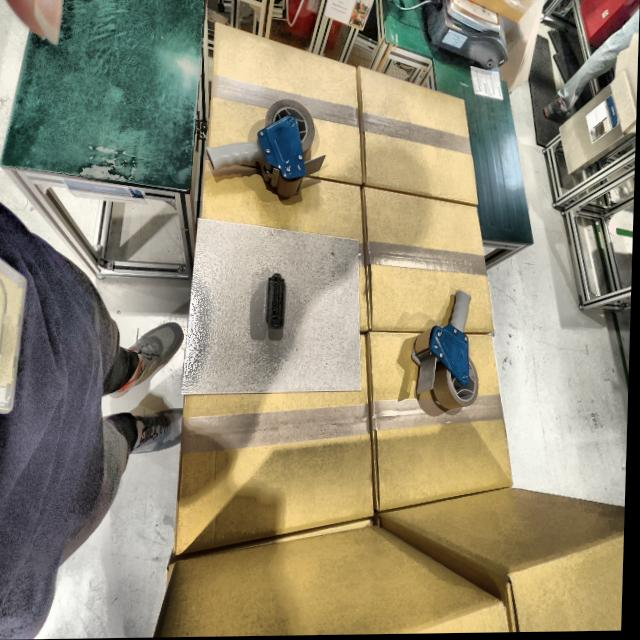P38: (268, 274, 287, 330)
